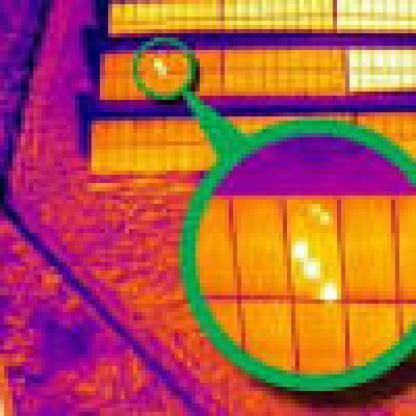Defects: (287, 241, 308, 262), (304, 262, 320, 278), (320, 283, 336, 295)
